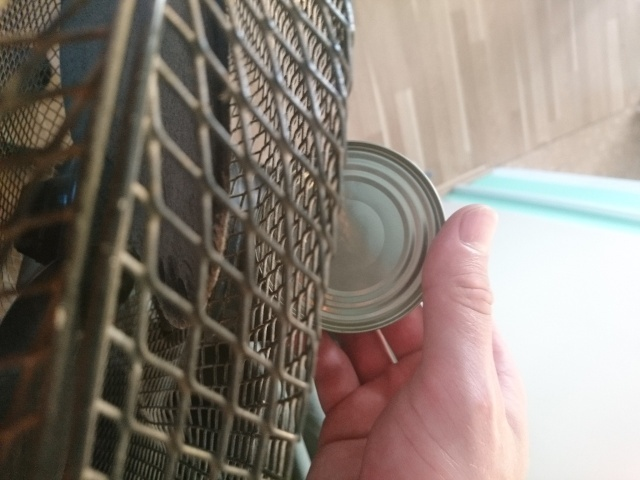Podravka Luncheon Meat 150g: (248, 137, 453, 338)
